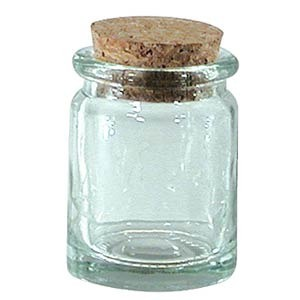emptybottle: (68, 17, 238, 290)
